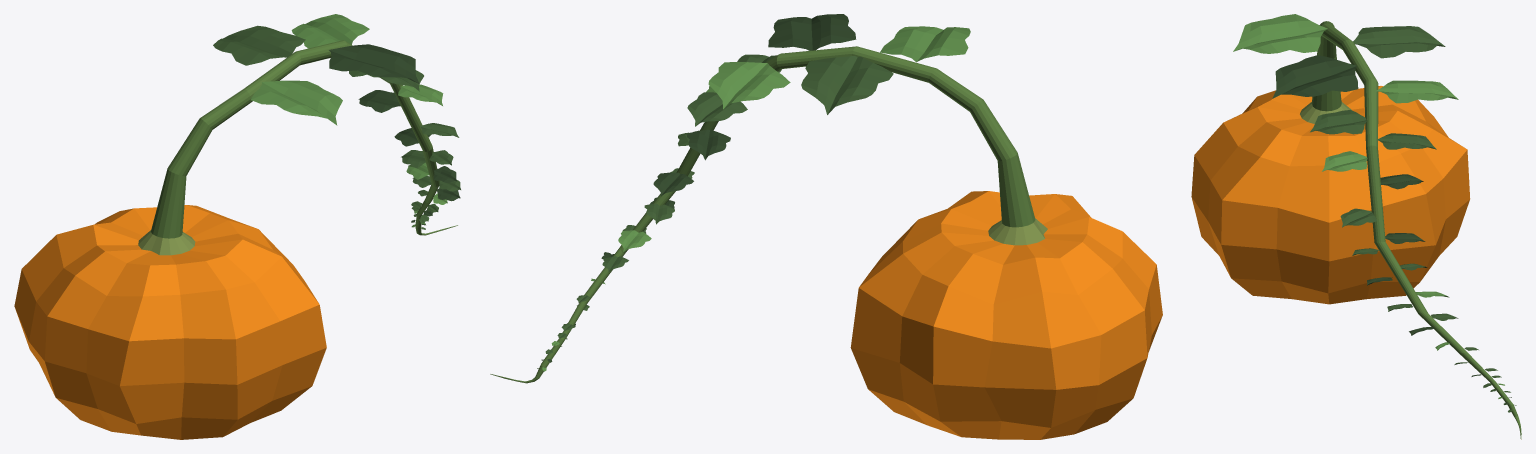
The model's file is pompoen.fbx.
The picture shows the model from 3 angles, left to right: view 1: azimuth 30°, elevation 25°; view 2: azimuth 150°, elevation 25°; view 3: azimuth 270°, elevation 25°; orthographic projection. The views are drawn at different scales.
Parts seen in each view (by area): view 1: Cylinder; view 2: Cylinder; view 3: Cylinder.
Boxes of the visible parts, <box> form: Cylinder: <box>14,14,460,439</box>; Cylinder: <box>490,14,1162,439</box>; Cylinder: <box>1191,14,1521,439</box>.
Bounding box in the file's own units: 127 × 71.98 × 75.04.
